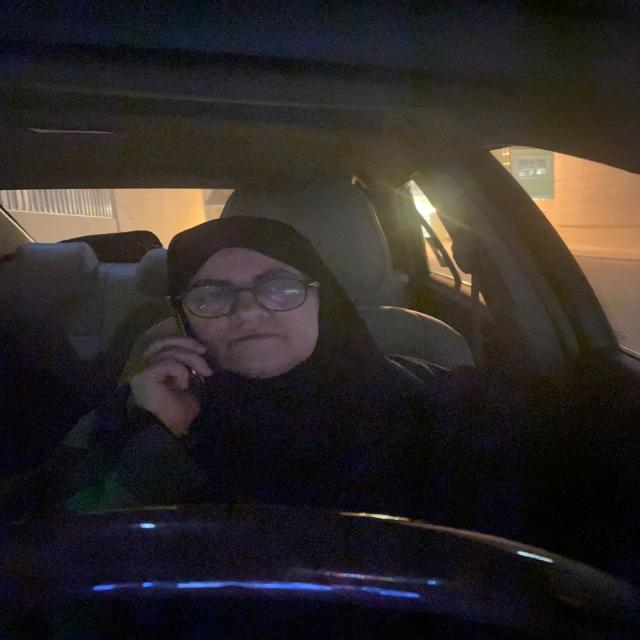mobile: (171, 302, 211, 392)
person: (175, 212, 325, 384)
